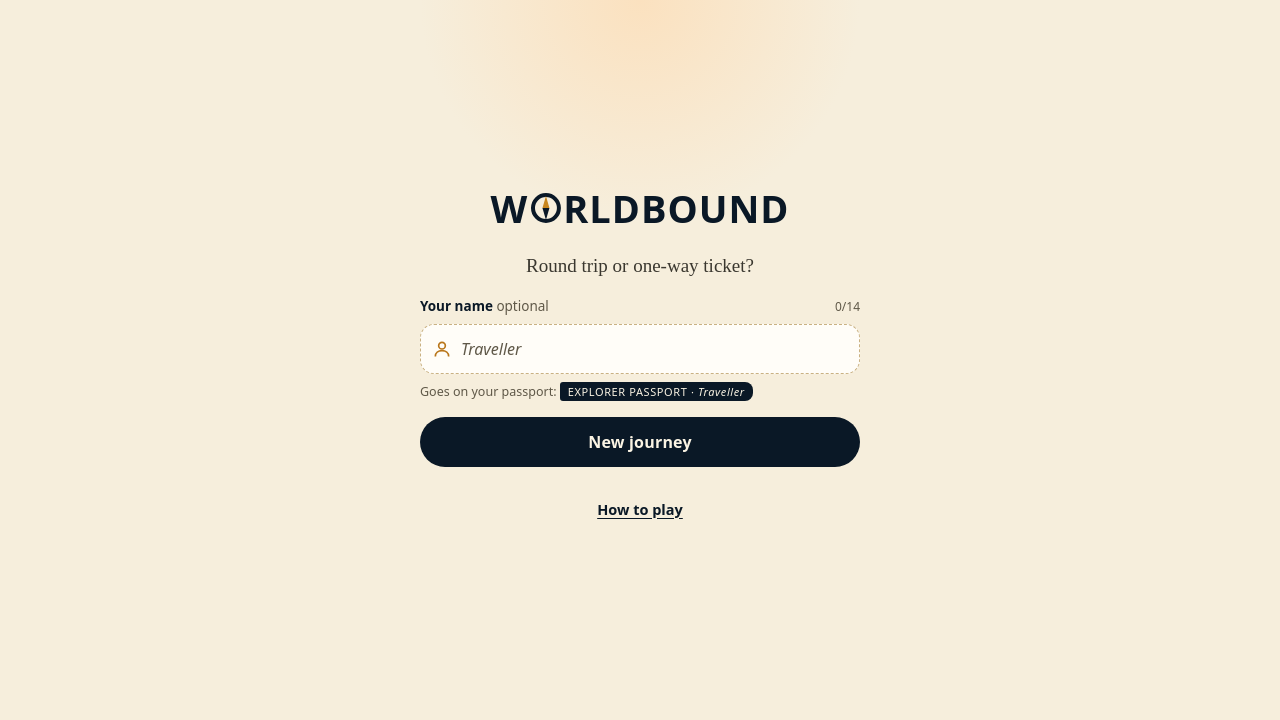
Story 1.6 AC2 / UX-DR4 opening the route sheet › opens from a chip, with the map behind made inert
The image size is (1280, 720).
Step 1. Click the button "New journey" → (640, 442), box top-left (420, 417), bottom-right (860, 467)
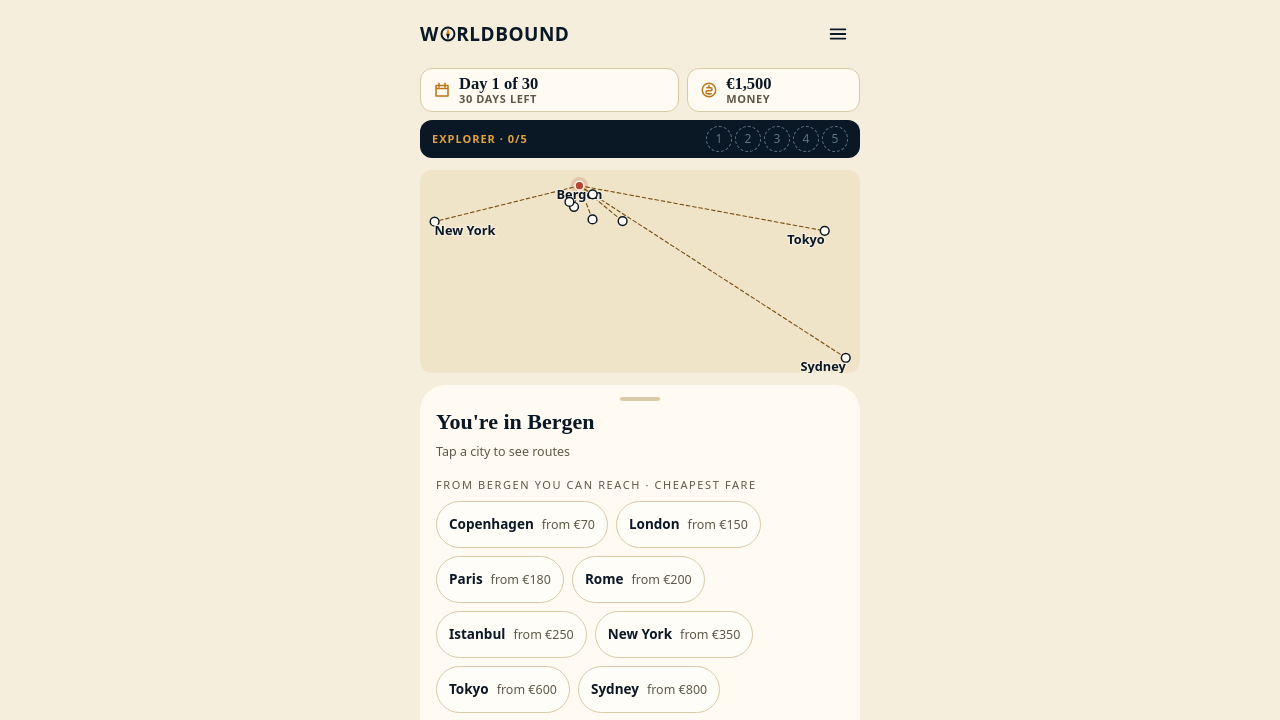
Step 2. Click the button "Copenhagen from €70" → (522, 525), box top-left (436, 501), bottom-right (608, 548)
(page scrolled)
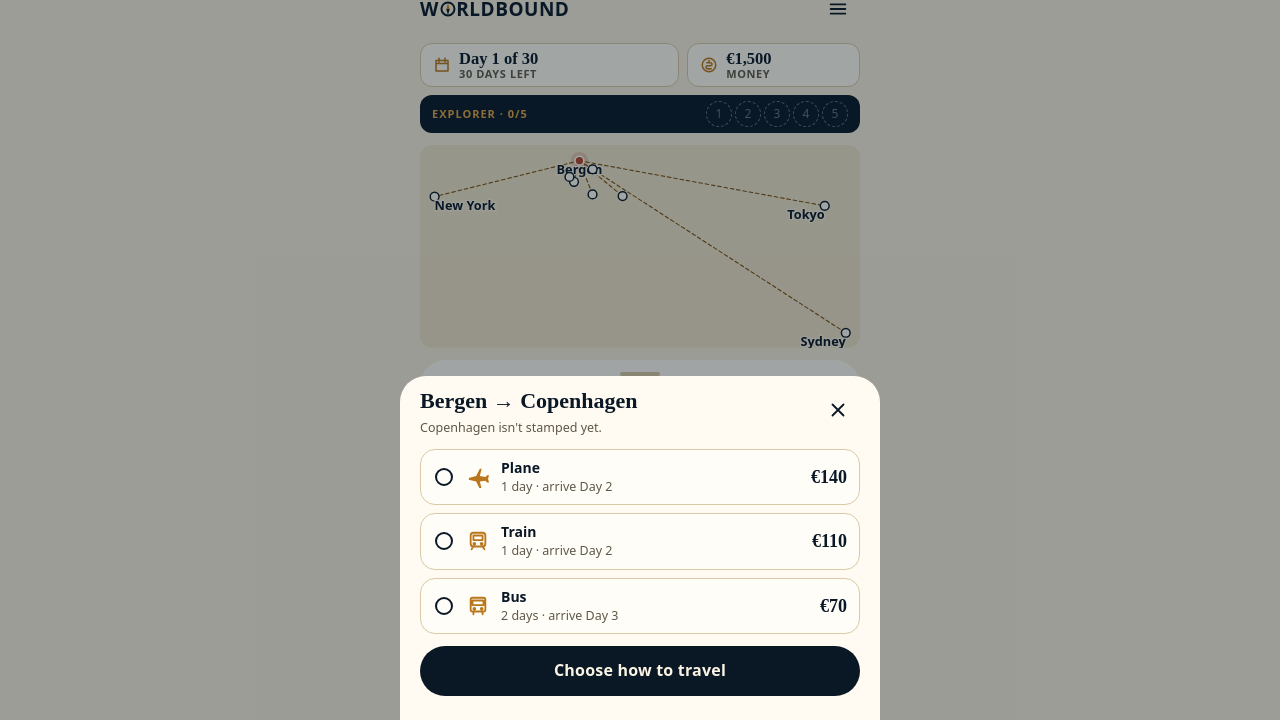
Result: the dialog "Bergen → Copenhagen" is shown at top-left (400, 376), bottom-right (880, 719)
